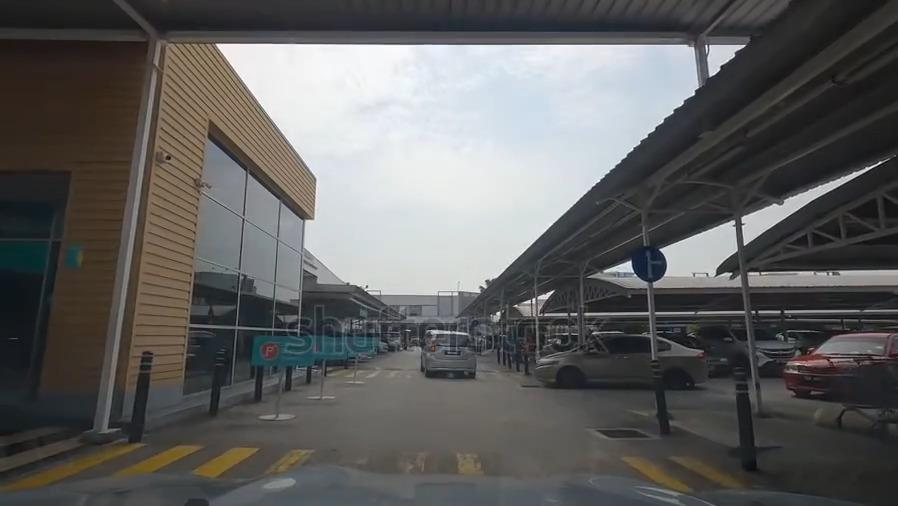car: (537, 331, 703, 394), (782, 333, 898, 399), (695, 324, 801, 374), (420, 331, 475, 378), (777, 324, 819, 349)
manhole: (594, 423, 649, 446), (519, 378, 539, 393)
pedestrian: (2, 450, 759, 490), (323, 371, 519, 377)
